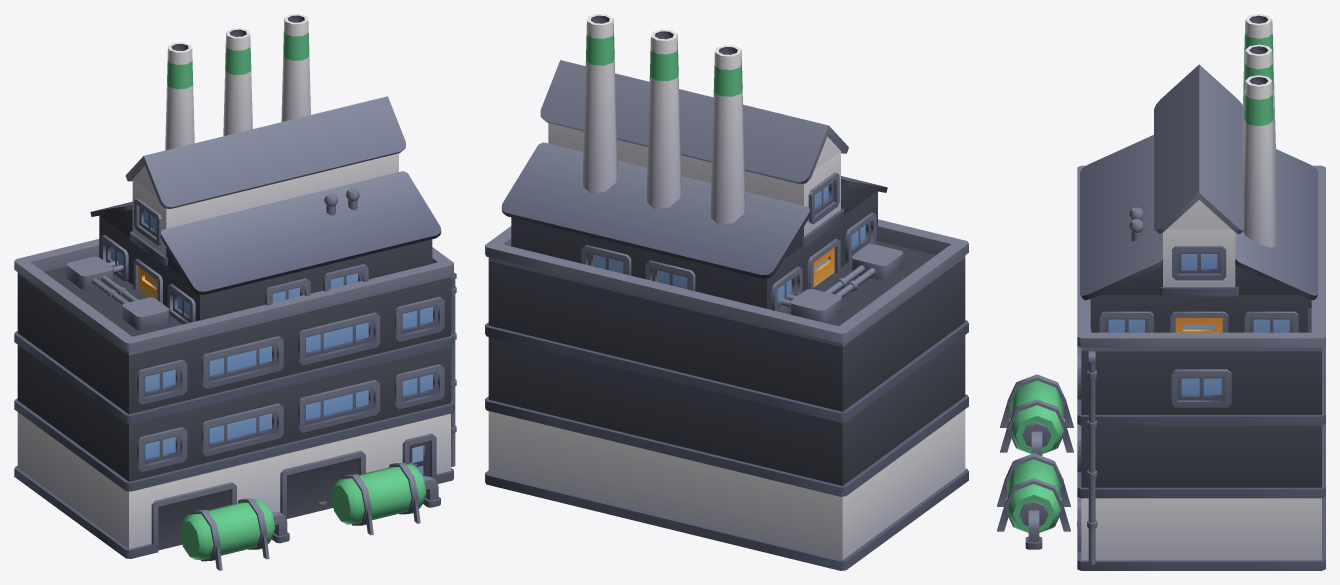
Rendered from chemistry_level3.glb.
The picture shows the model from 3 angles, left to right: view 1: azimuth 30°, elevation 25°; view 2: azimuth 150°, elevation 25°; view 3: azimuth 270°, elevation 25°; orthographic projection. The views are drawn at different scales.
Parts seen in each view (by area): view 1: detail-tank.001; view 2: detail-tank.001; view 3: detail-tank.001.
Part boxes in pixels (x1,y1,x2,y2): detail-tank.001: [14, 14, 456, 570]; detail-tank.001: [485, 14, 968, 570]; detail-tank.001: [997, 14, 1325, 570].
Size of the model in its own units: 1.31 by 1.56 by 1.03.
Materials: 3 (3 with a texture image).
